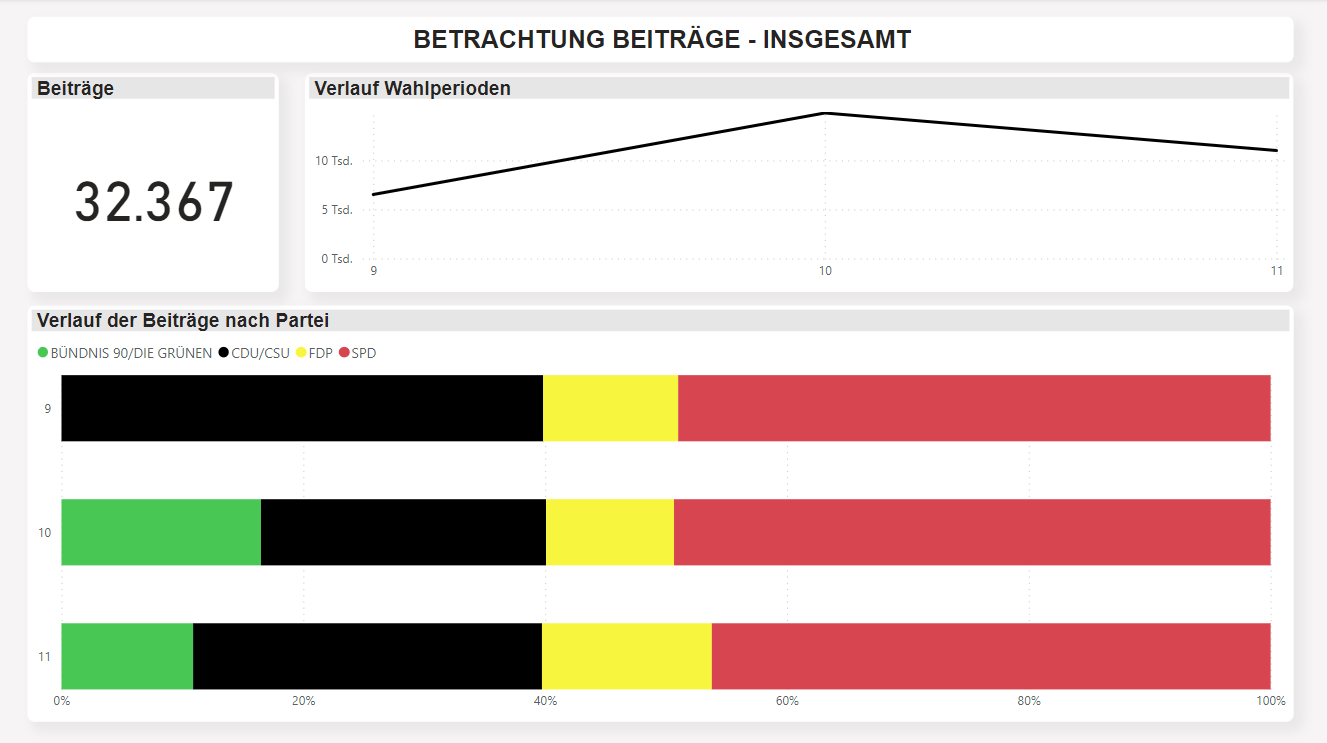

What the dashboard file says about the page in this screenshot:
{"tool":"powerbi","page":{"name":"Beiträge","canvas":[1280,720],"ordinal":4},"visuals":[{"type":"lineChart","title":"Verlauf Wahlperioden","fields":{"Y":["Measure_Table.Beiträge"],"Category":["RB.WAHLPERIODE","RB.NR"]},"box":[294.3,72.4,954,211.1],"z":0},{"type":"hundredPercentStackedBarChart","title":"Verlauf der Beiträge nach Partei","fields":{"Y":["Measure_Table.Beiträge"],"Category":["RB.WAHLPERIODE"],"Series":["RB.PARTEI_KURZ"]},"box":[26.5,296.7,1221.7,401.6],"z":1000},{"type":"card","title":"Beiträge","fields":{"Values":["Measure_Table.Beiträge"]},"box":[26.5,72.4,242.4,211.1],"z":2000},{"type":"textbox","box":[26.6,17.5,1222,43.8],"z":3000}]}

Visuals, with their boxes in screenshot pixels (x1, y1, x2, y2), scaled from the page's 1280x720 canvas onto the 1327x743 screenshot:
"Verlauf Wahlperioden" lineChart: region(305, 75, 1294, 293)
"Verlauf der Beiträge nach Partei" hundredPercentStackedBarChart: region(27, 306, 1294, 721)
"Beiträge" card: region(27, 75, 279, 293)
textbox: region(28, 18, 1294, 63)
